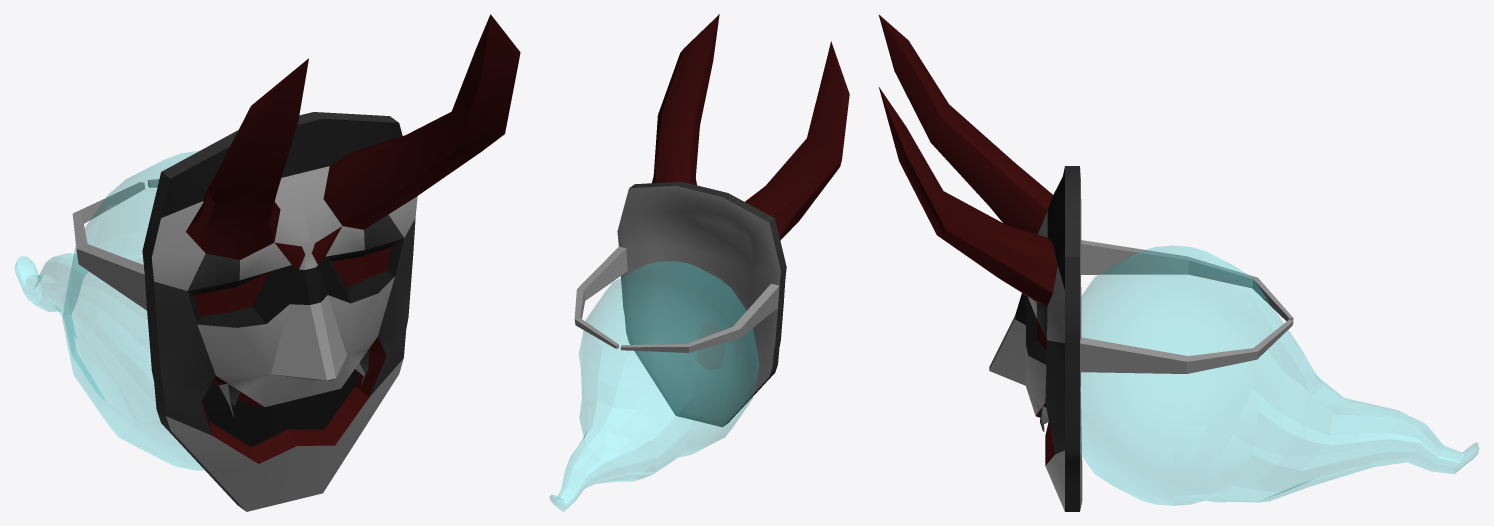
File: OniMask.FBX
The picture shows the model from 3 angles, left to right: view 1: azimuth 30°, elevation 25°; view 2: azimuth 150°, elevation 25°; view 3: azimuth 270°, elevation 25°; orthographic projection. The views are drawn at different scales.
Parts seen in each view (by area): view 1: Box001, Sphere001; view 2: Box001, Sphere001; view 3: Sphere001, Box001.
Part boxes in pixels (x1,y1,x2,y2): Box001: (72, 14, 520, 511); Sphere001: (14, 151, 204, 470); Box001: (574, 14, 849, 427); Sphere001: (549, 261, 759, 511); Sphere001: (1080, 245, 1479, 505); Box001: (878, 14, 1293, 511).
Bounding box in the file's own units: 38.66 × 69.13 × 82.76.
